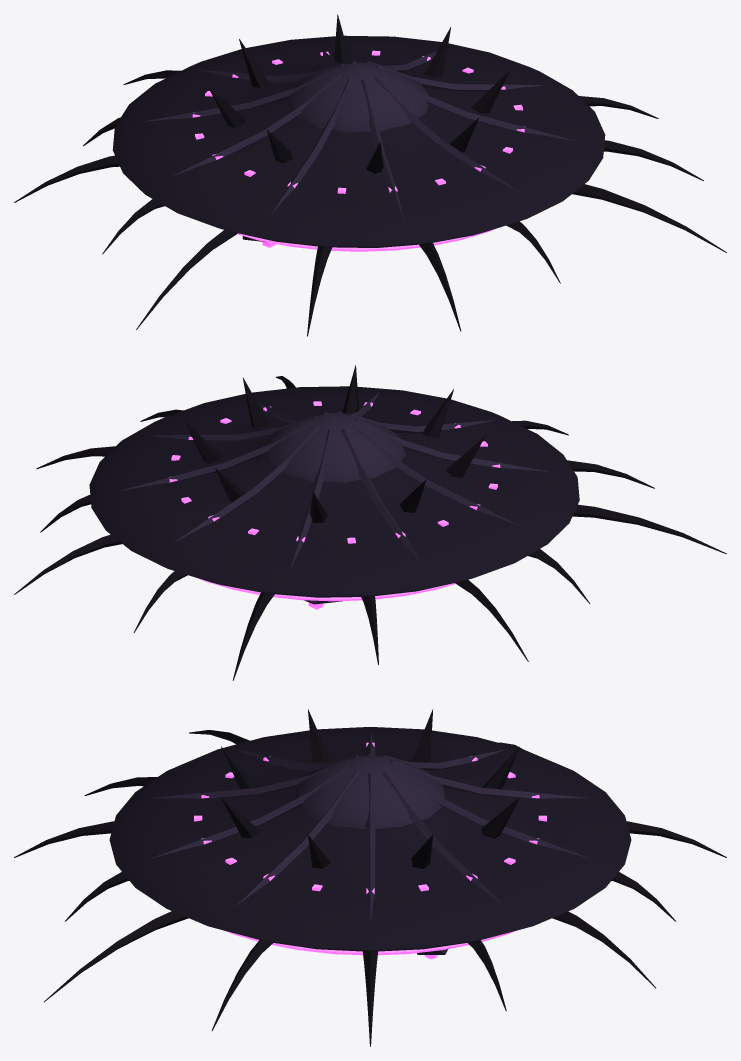
Rendered from mothership.glb.
3 renders of one model, top to bottom at view 1: azimuth 30°, elevation 25°; view 2: azimuth 150°, elevation 25°; view 3: azimuth 270°, elevation 25°, orthographic. The views are drawn at different scales.
Visible parts, largest first — view 1: Mothership, Mothership_Lights; view 2: Mothership, Mothership_Lights; view 3: Mothership, Mothership_Lights.
Part boxes in pixels (box(x1,y1,x2,y2)): Mothership: box(14, 14, 726, 336); Mothership_Lights: box(192, 50, 524, 251); Mothership: box(14, 365, 726, 680); Mothership_Lights: box(169, 401, 500, 609); Mothership: box(14, 709, 726, 1046); Mothership_Lights: box(194, 742, 546, 959).
Bounding box in the file's own units: 142 × 32.8 × 137.
